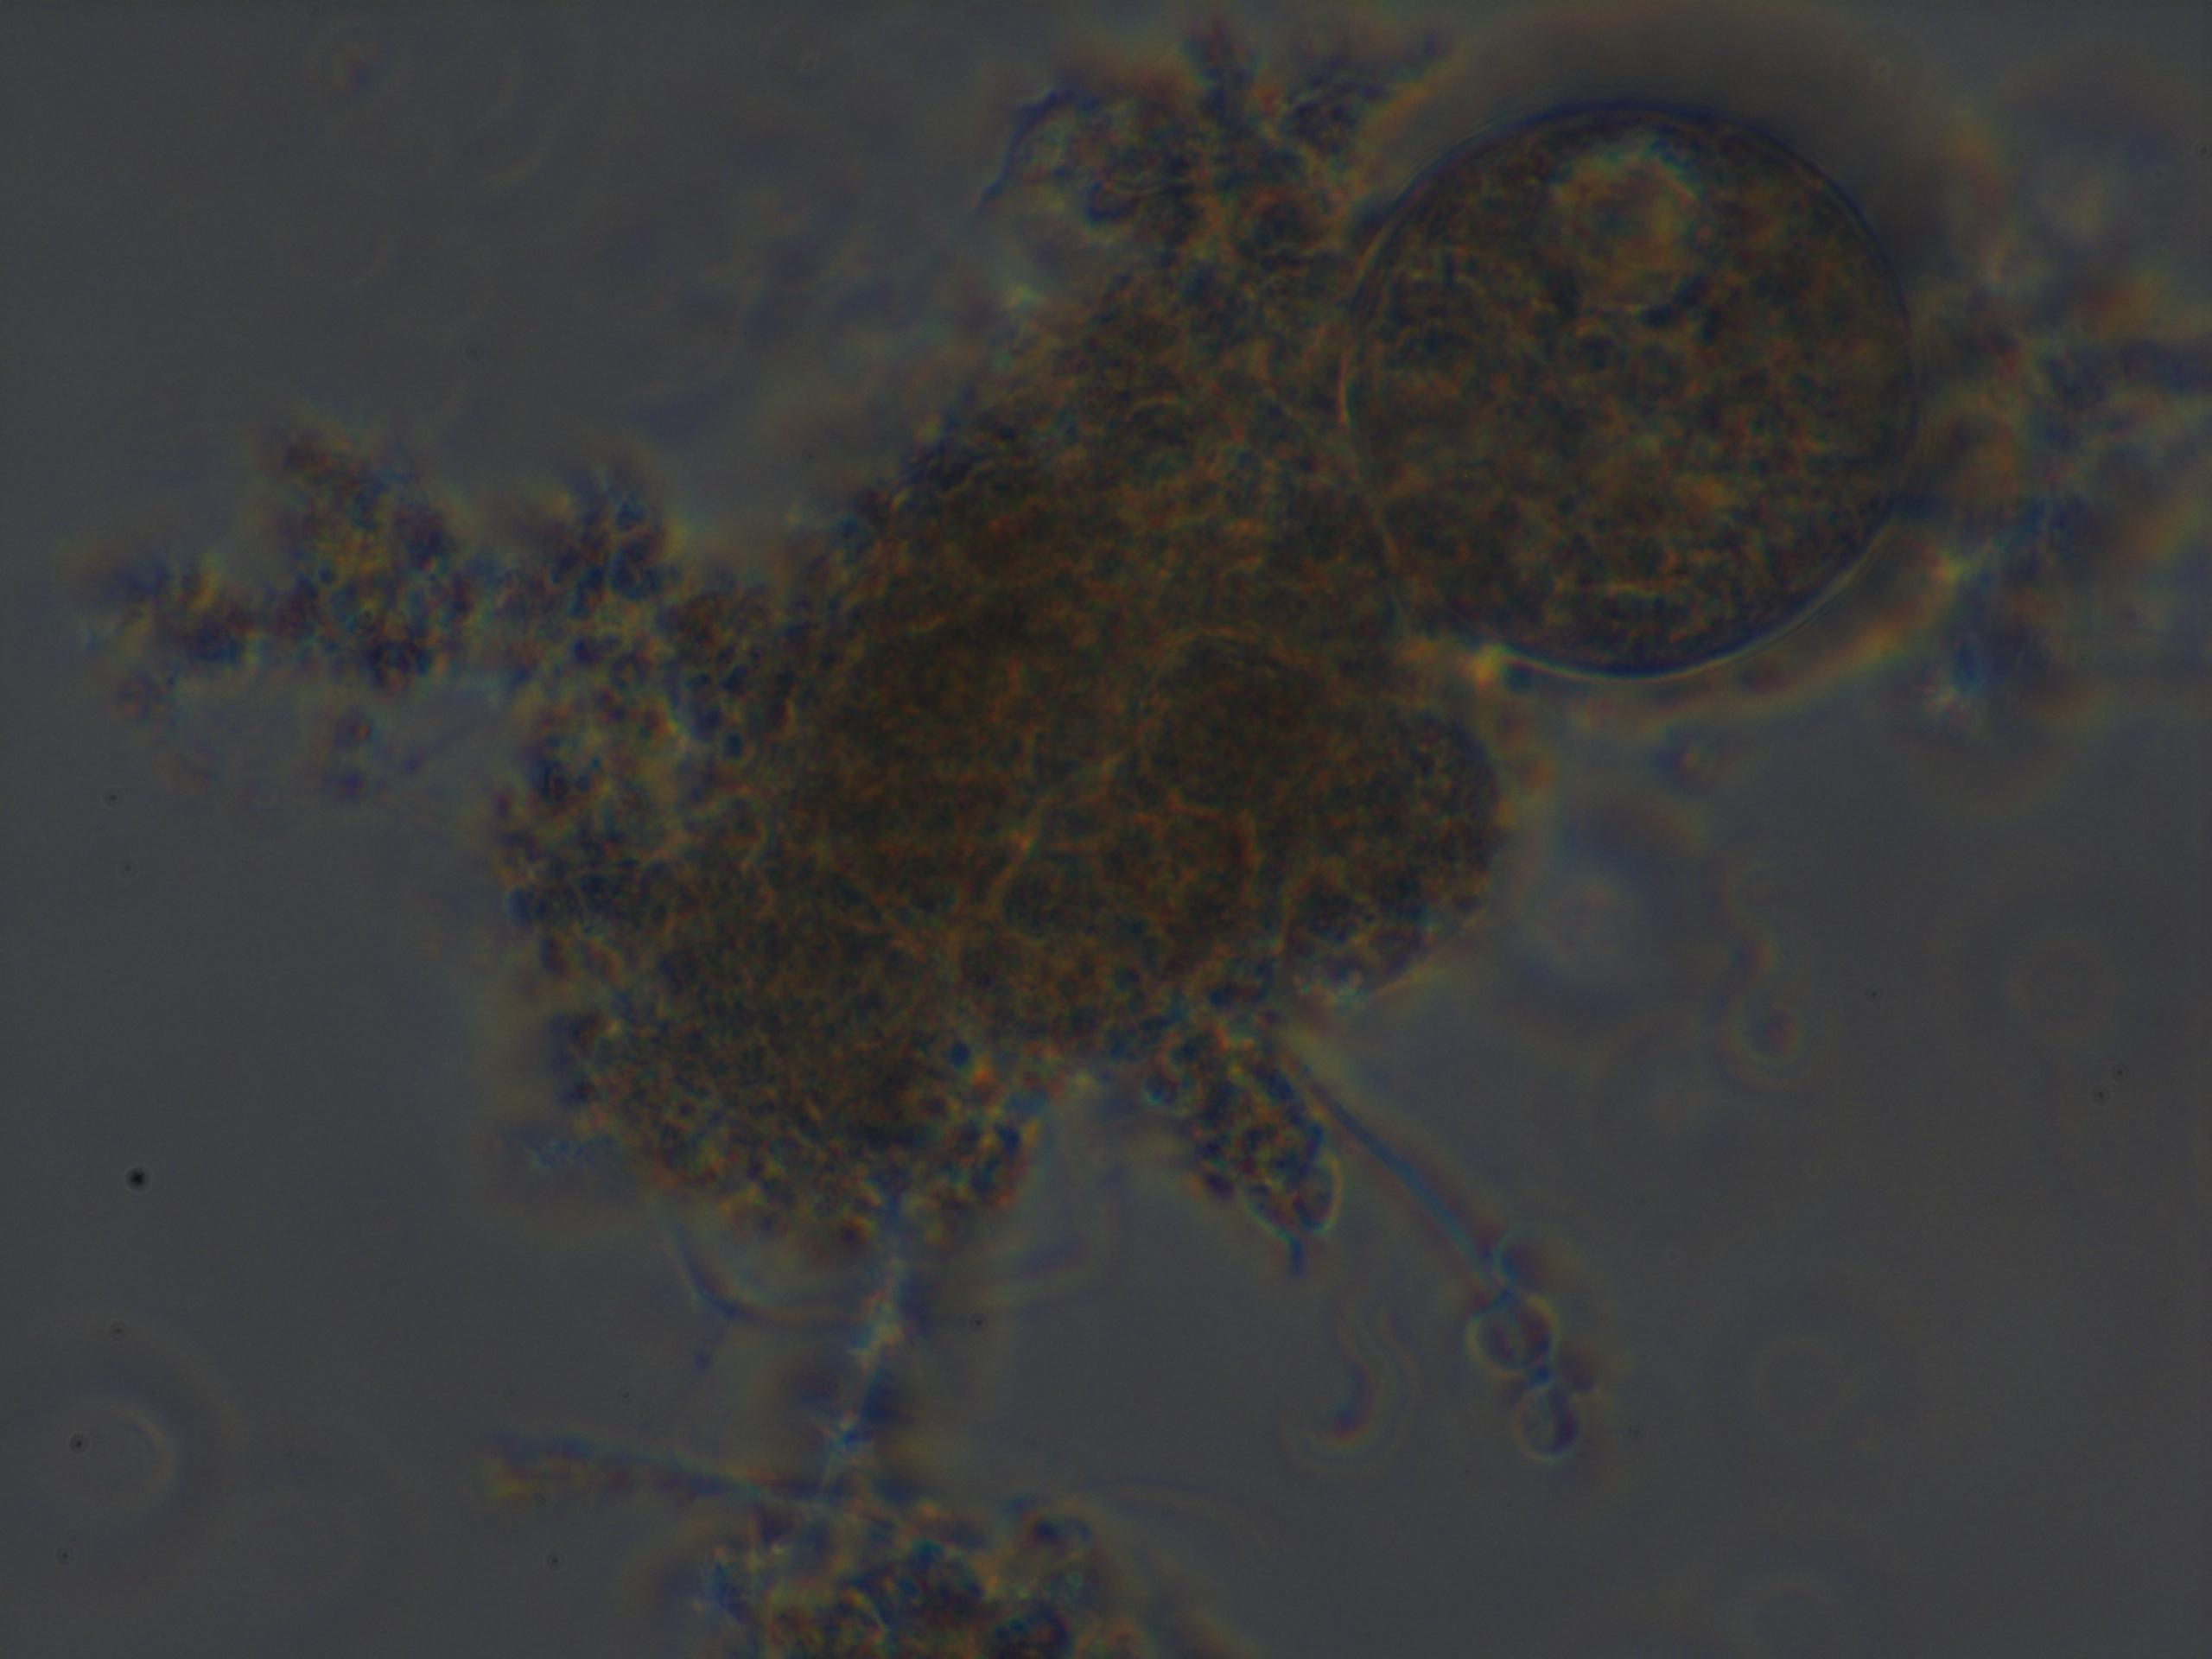protozoa: (1329, 64, 1940, 683)
spherical_floc: (512, 58, 1501, 1263)
